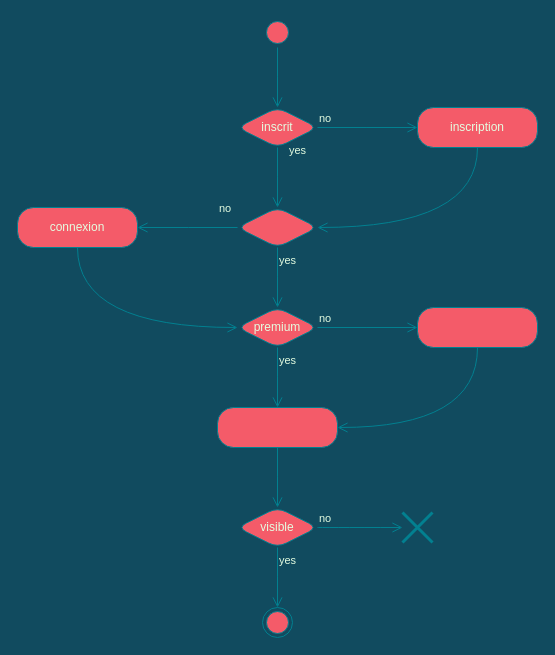
Image size: 555x655. Some labels were removed from this diagram. The shapes that lost their labels are listed below. From the top down, each one's centre as x and y in pixels, then its label:
At point (277, 227): "connecté".
At point (477, 327): "get premium".
At point (277, 427): "Gestion de profil".
